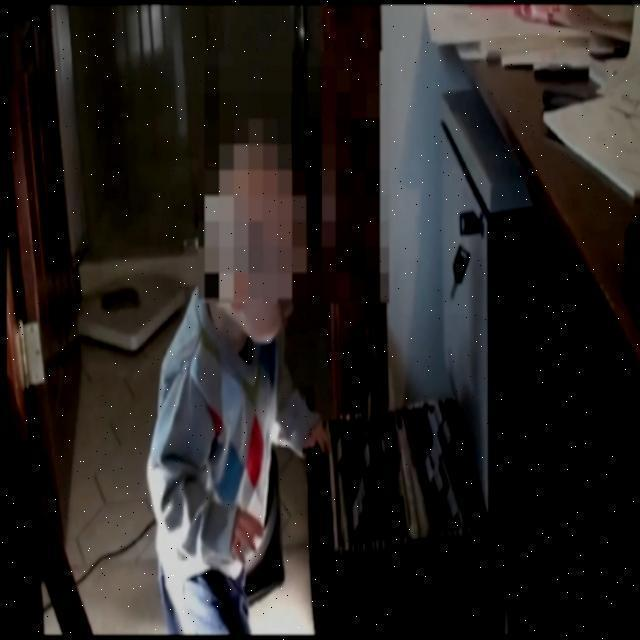child: (148, 162, 324, 637)
